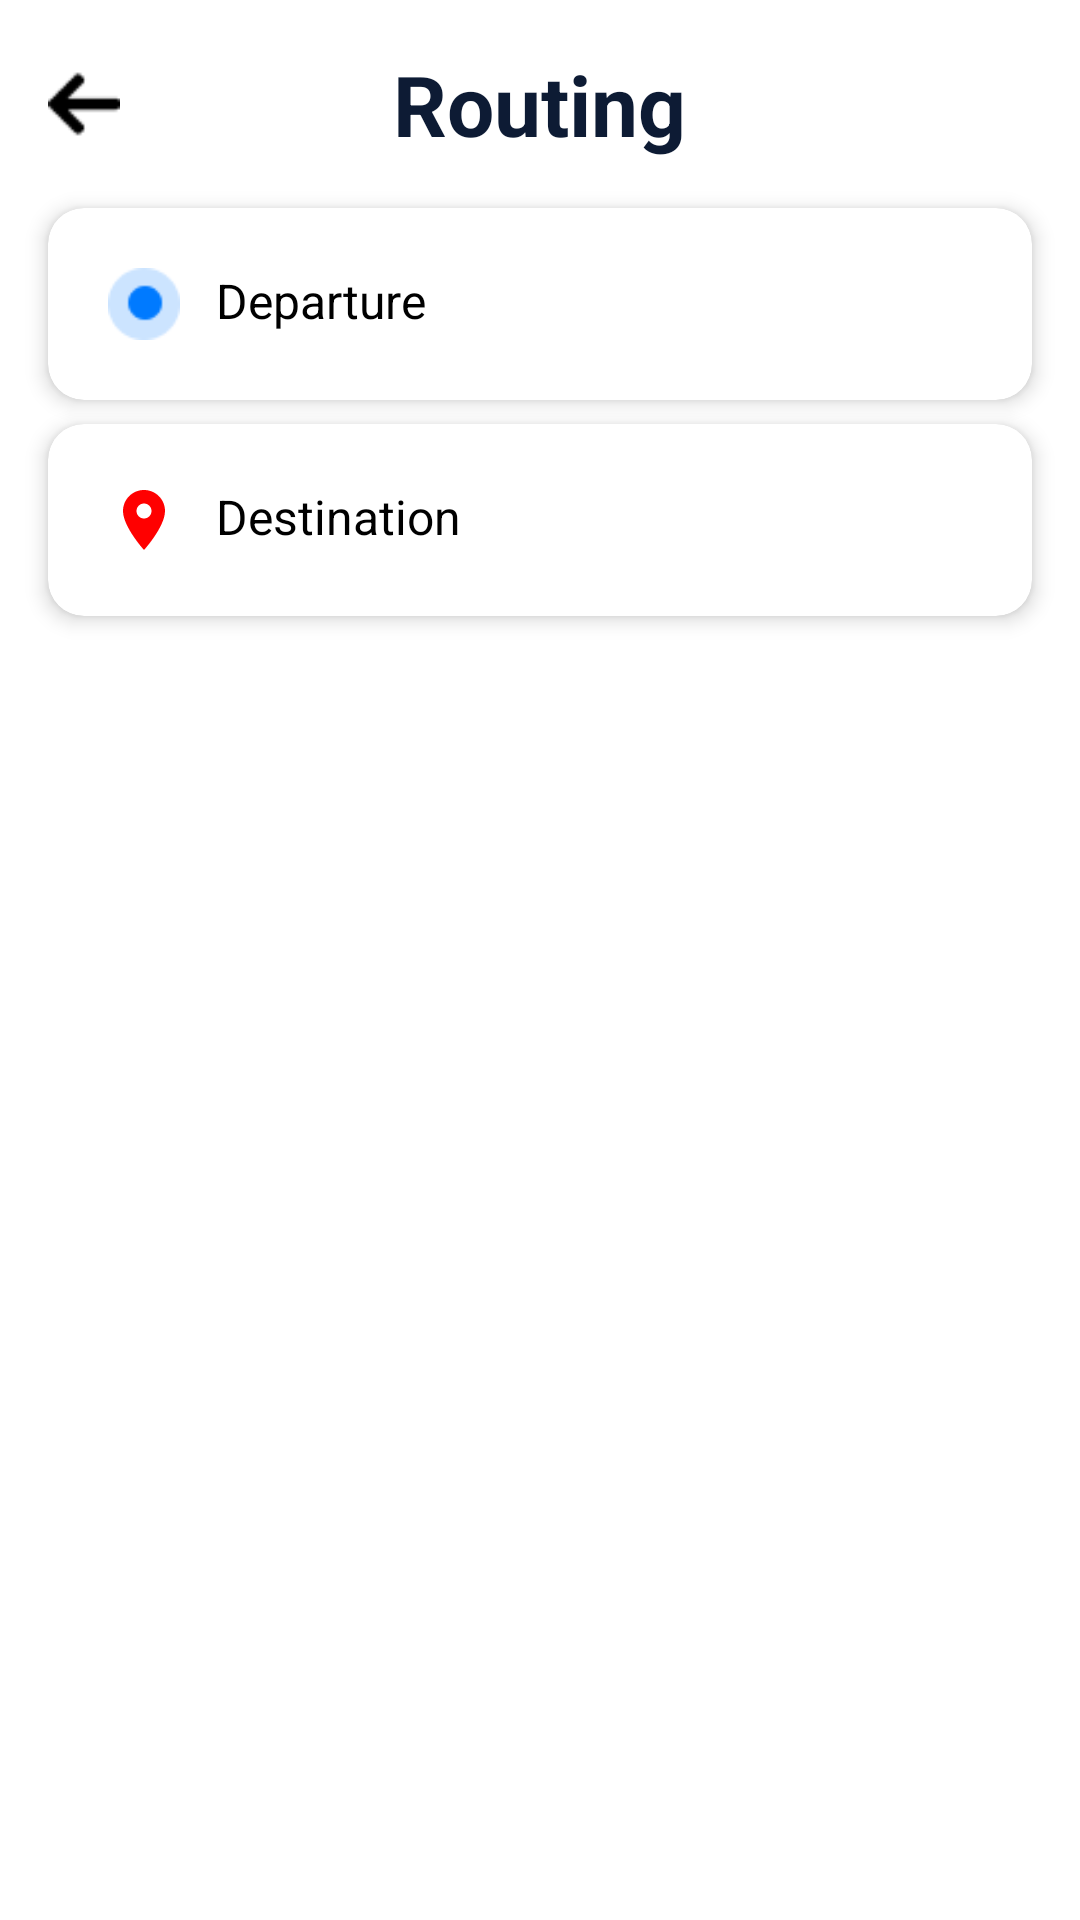

Locate icon controls on the screen. Image size 1080px×1920px, boxes as bbox(x1, y1, x2, y2).
marker: bbox(123, 490, 165, 550)
